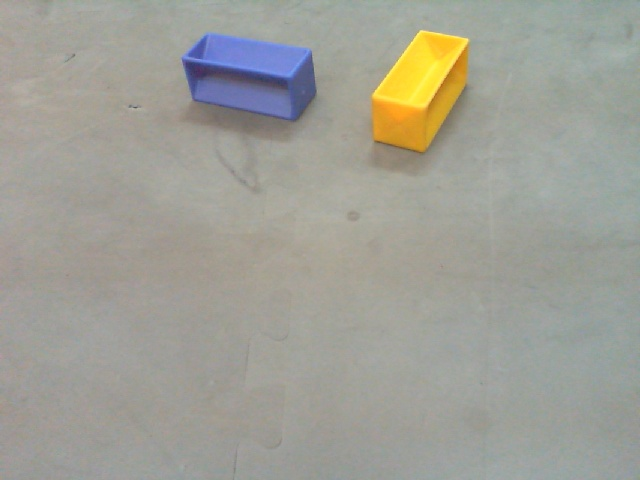BlueSample: (179, 31, 318, 123)
YellowSample: (367, 28, 471, 156)
